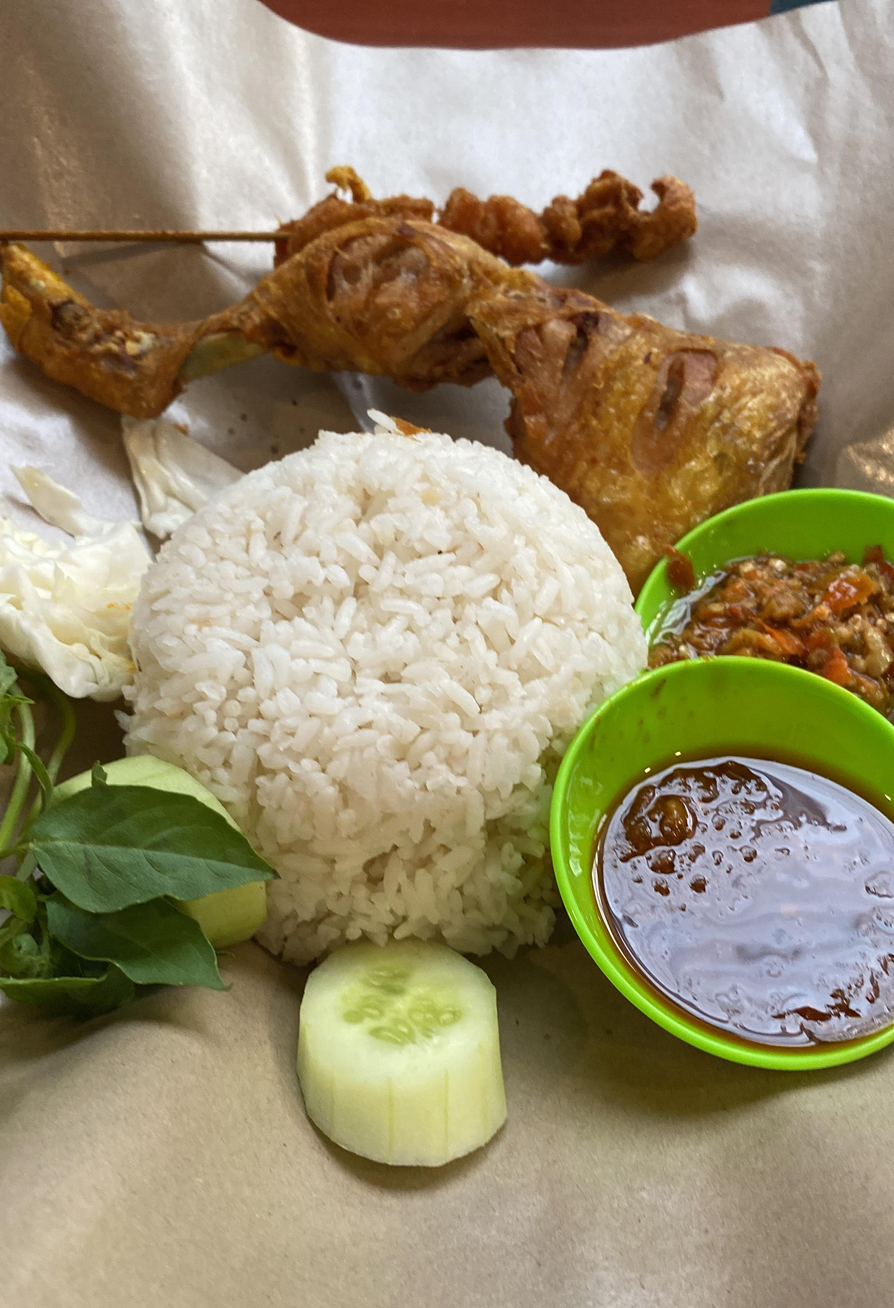buah_sayur_lainnya: (0, 666, 217, 1041), (287, 906, 495, 1148)
daging: (555, 298, 807, 483)
makanan_berpati: (134, 490, 577, 863)
